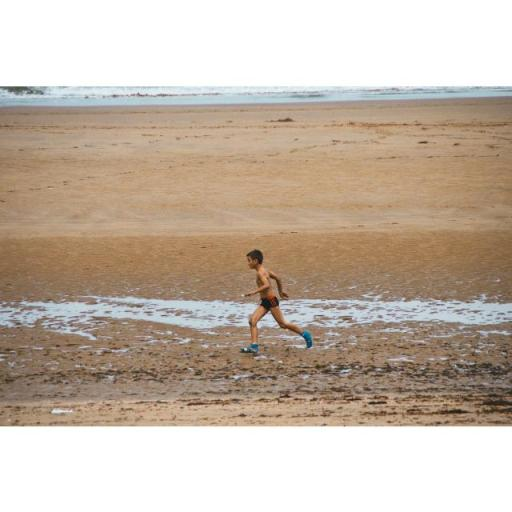Running: (226, 237, 320, 359)
